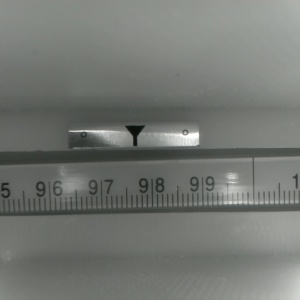1: (291, 172, 298, 189)
5: (0, 183, 10, 198)
6: (51, 180, 61, 196)
7: (103, 179, 113, 194)
8: (154, 177, 164, 193)
9: (35, 181, 46, 197), (87, 180, 98, 195), (138, 178, 148, 193), (189, 177, 199, 192), (205, 177, 215, 191)
finger: (122, 126, 145, 147)
